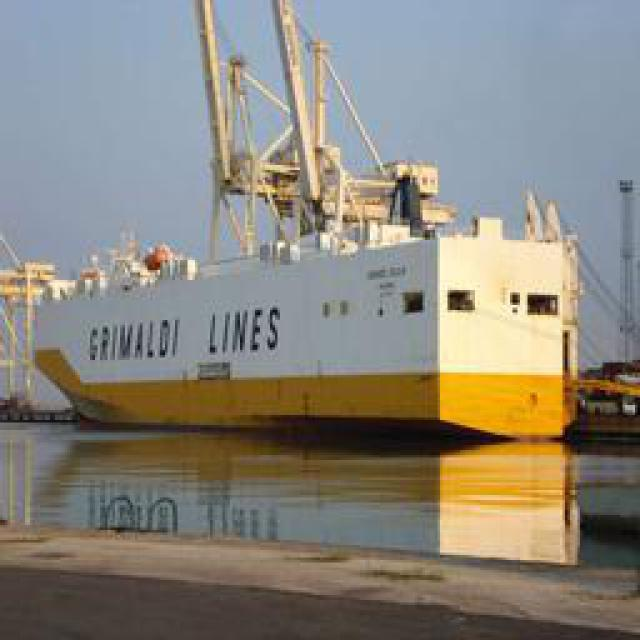Ship: (20, 1, 590, 431)
